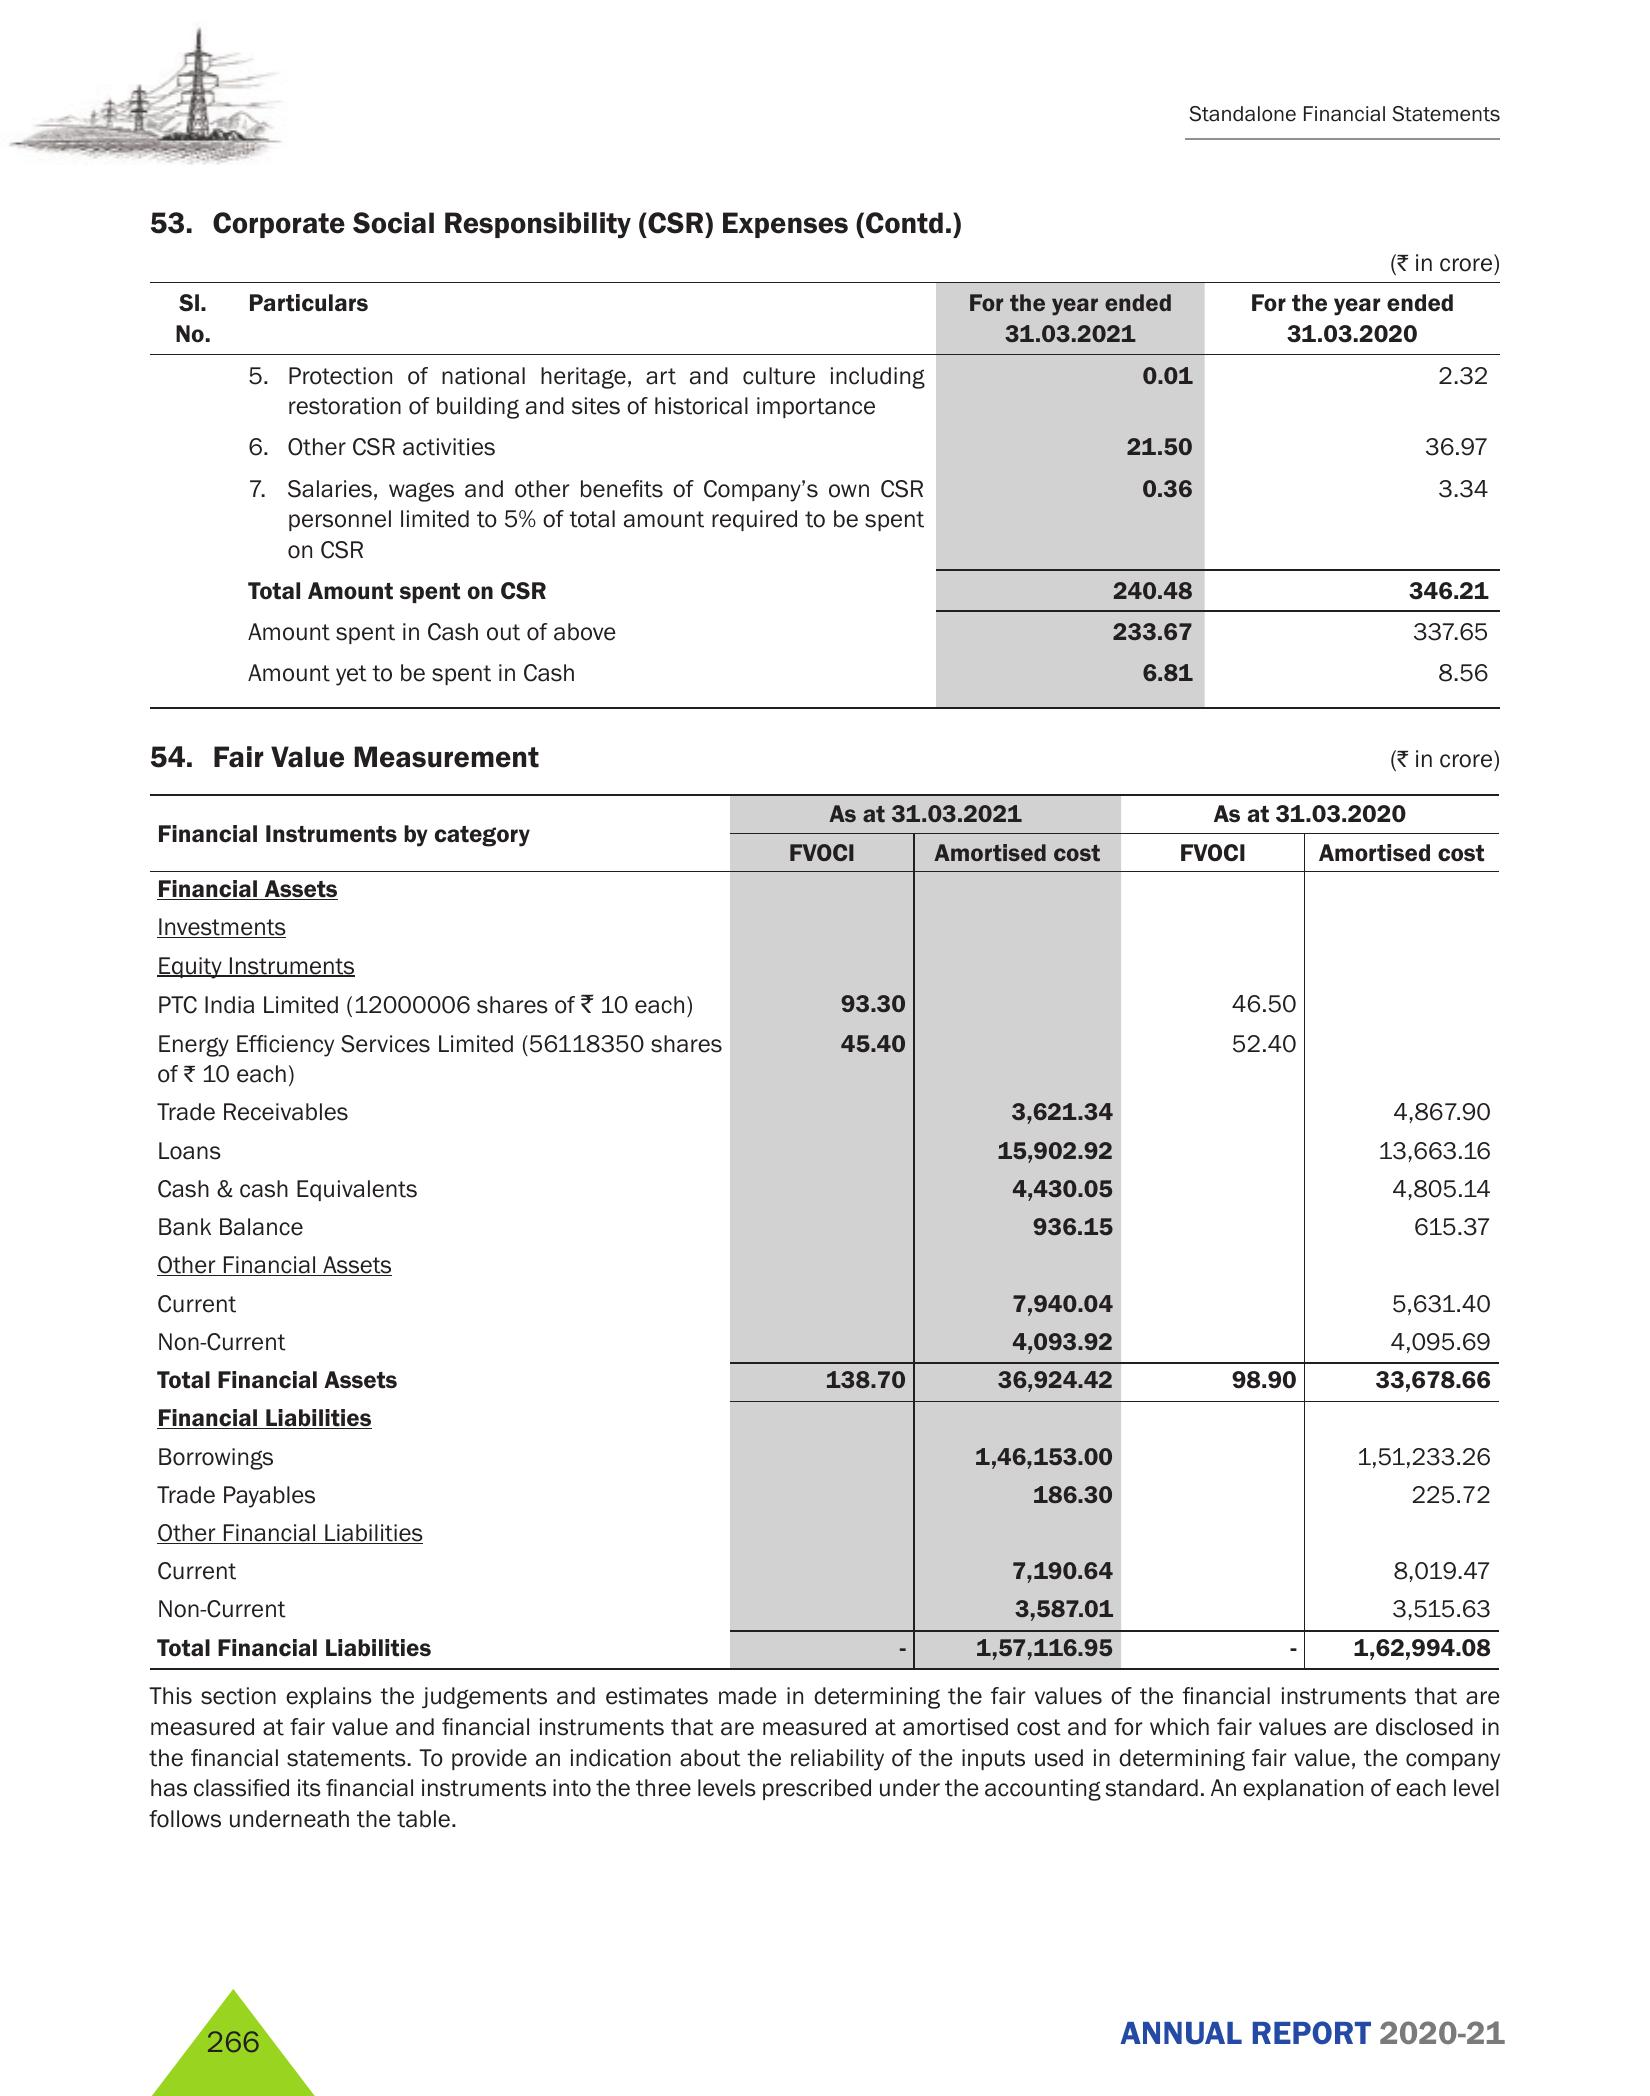Footer: (0, 1965, 1650, 2096)
Header: (0, 0, 1650, 168)
Table: (82, 789, 1528, 1676), (85, 277, 1545, 711)
